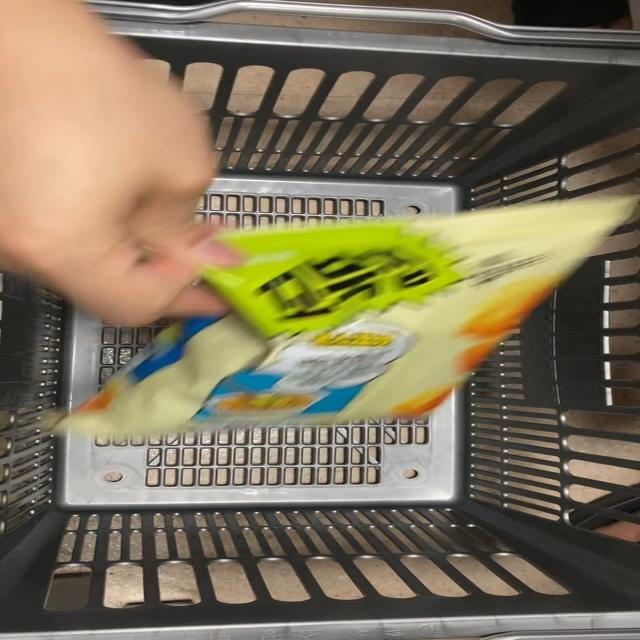ggobukchip: (63, 203, 635, 449)
